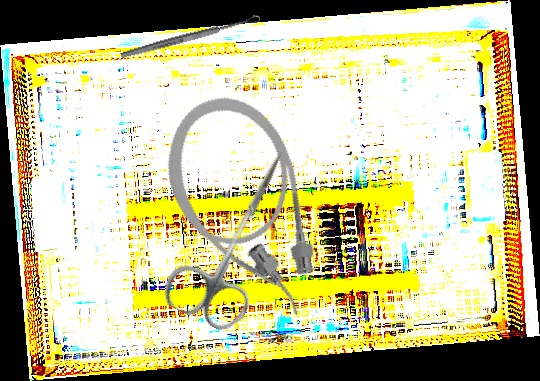Cannula: (149, 81, 338, 340)
Iris Scissors: (157, 131, 316, 338)
Surgical Spoon: (119, 14, 262, 60)
